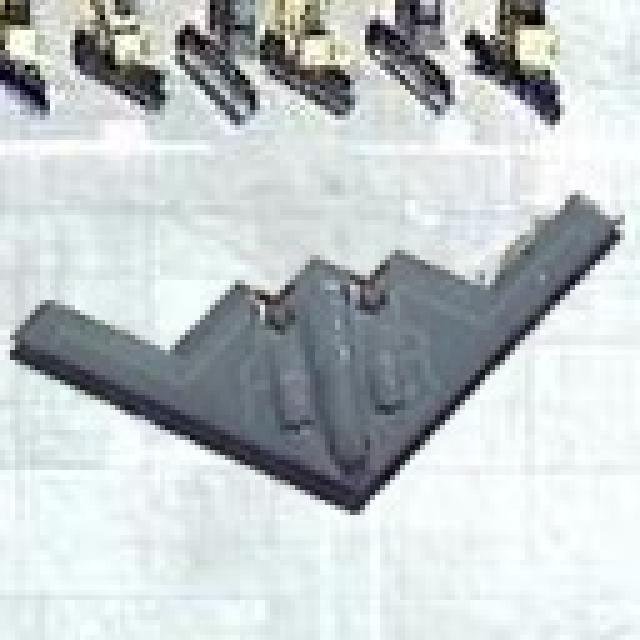B-2_TopDown: (5, 185, 625, 515)
